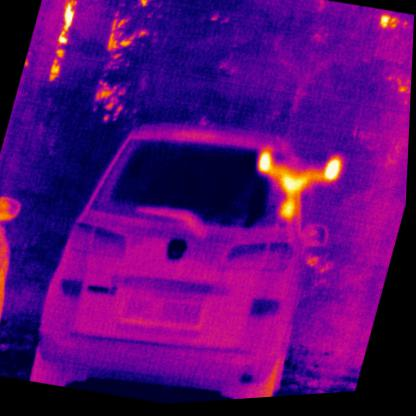drone: (245, 139, 349, 236)
vehicle: (26, 92, 349, 413)
